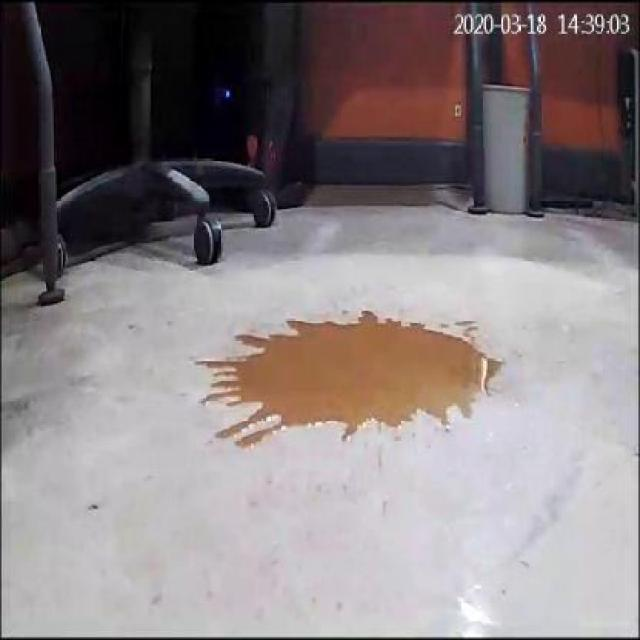spill: (212, 302, 492, 453)
